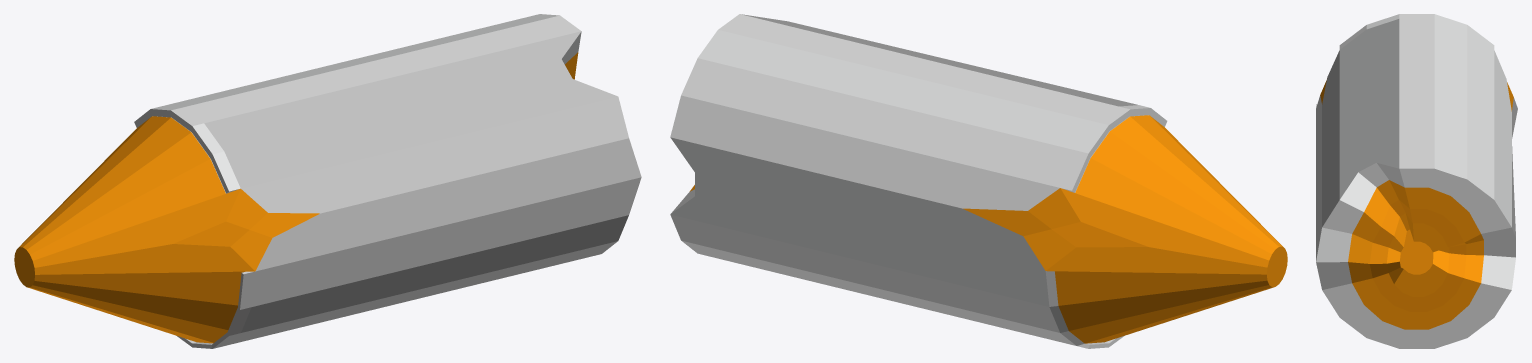
File: Broken log_12.fbx
3 renders of one model, left to right at view 1: azimuth 30°, elevation 25°; view 2: azimuth 150°, elevation 25°; view 3: azimuth 270°, elevation 25°, orthographic. The views are drawn at different scales.
Visible parts, largest first — view 1: Circle.213; view 2: Circle.213; view 3: Circle.213.
Boxes of the visible parts, left/top/right/bottom form: Circle.213: left=14, top=14, right=641, bottom=348; Circle.213: left=670, top=14, right=1287, bottom=348; Circle.213: left=1316, top=14, right=1517, bottom=348.
Bounding box in the file's own units: 66.08 × 25.19 × 25.57.
